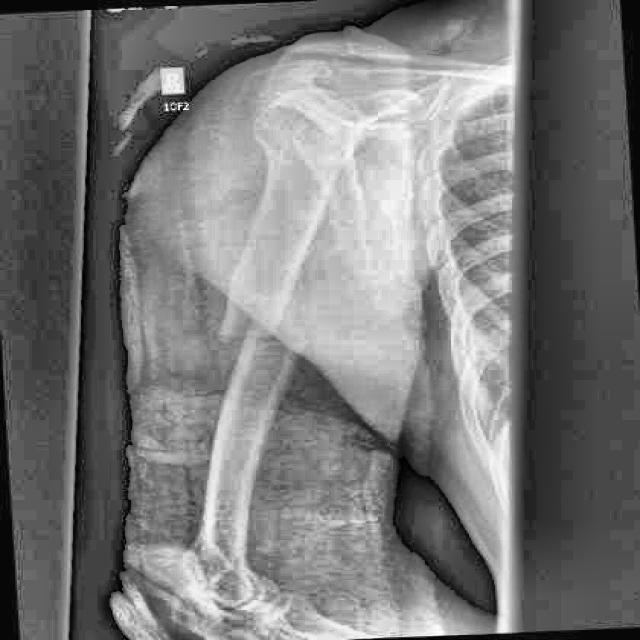humerus: (171, 251, 350, 480)
